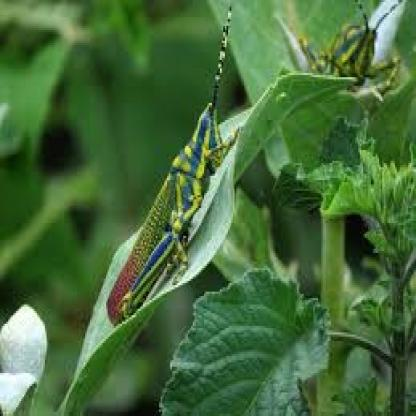grasshopper: (92, 8, 259, 351)
